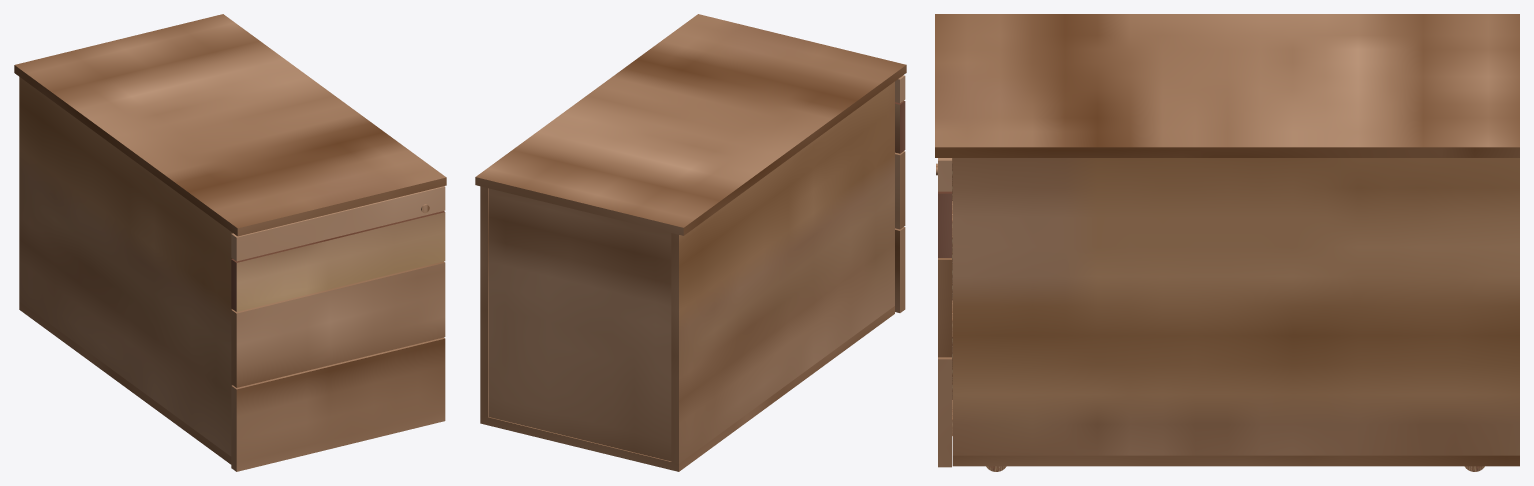
File: cabinet_exterior_9HE_41x80_finala.fbx
3 renders of one model, left to right at view 1: azimuth 30°, elevation 25°; view 2: azimuth 150°, elevation 25°; view 3: azimuth 270°, elevation 25°, orthographic. The views are drawn at different scales.
Parts seen in each view (by area): view 1: obudowa_mesh, drewno_mesh (×4); view 2: obudowa_mesh, drewno_mesh (×3); view 3: obudowa_mesh, drewno_mesh (×3).
Boxes of the visible parts, left/top/right/bottom form: obudowa_mesh: left=14, top=14, right=446, bottom=464; drewno_mesh (×4): left=231, top=186, right=445, bottom=471; obudowa_mesh: left=475, top=14, right=906, bottom=471; drewno_mesh (×3): left=895, top=100, right=905, bottom=312; obudowa_mesh: left=935, top=14, right=1519, bottom=466; drewno_mesh (×3): left=938, top=191, right=951, bottom=467.
Bounding box in the file's own units: 43.2 × 51.1 × 80.
